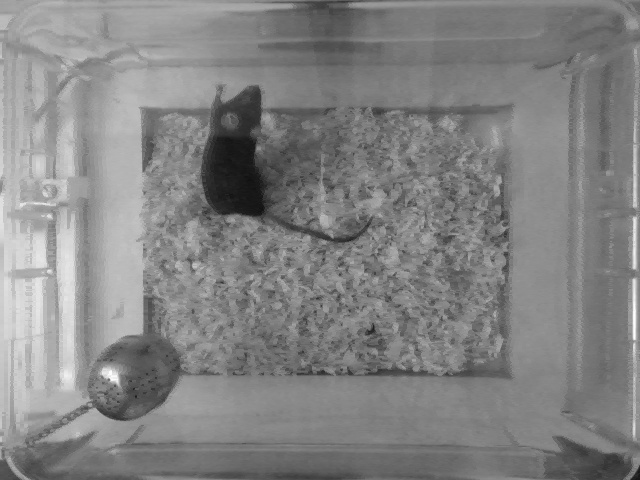mice: (200, 71, 377, 245)
